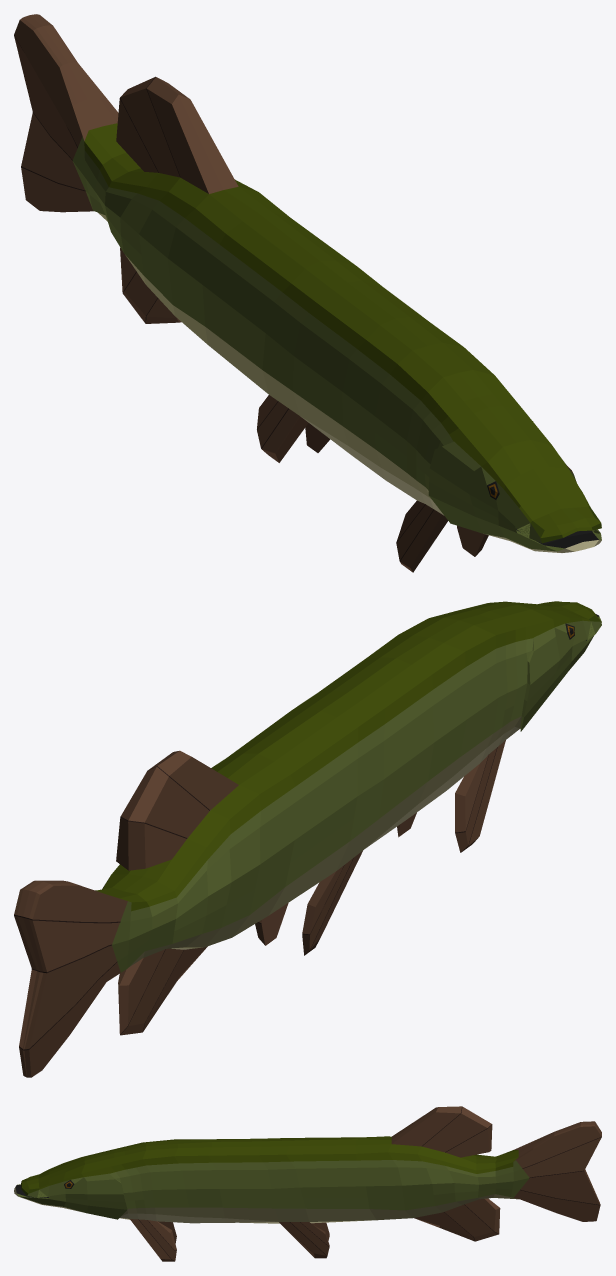
Rendered from pike_color_bright_anim_1.fbx.
3 renders of one model, top to bottom at view 1: azimuth 30°, elevation 25°; view 2: azimuth 150°, elevation 25°; view 3: azimuth 270°, elevation 25°, orthographic. The views are drawn at different scales.
Parts seen in each view (by area): view 1: Pike; view 2: Pike; view 3: Pike.
Part boxes in pixels (box(x1,y1,x2,y2)): Pike: box(14, 14, 601, 572); Pike: box(14, 601, 601, 1077); Pike: box(14, 1106, 601, 1261).
Bounding box in the file's own units: 49.98 × 133 × 482.
